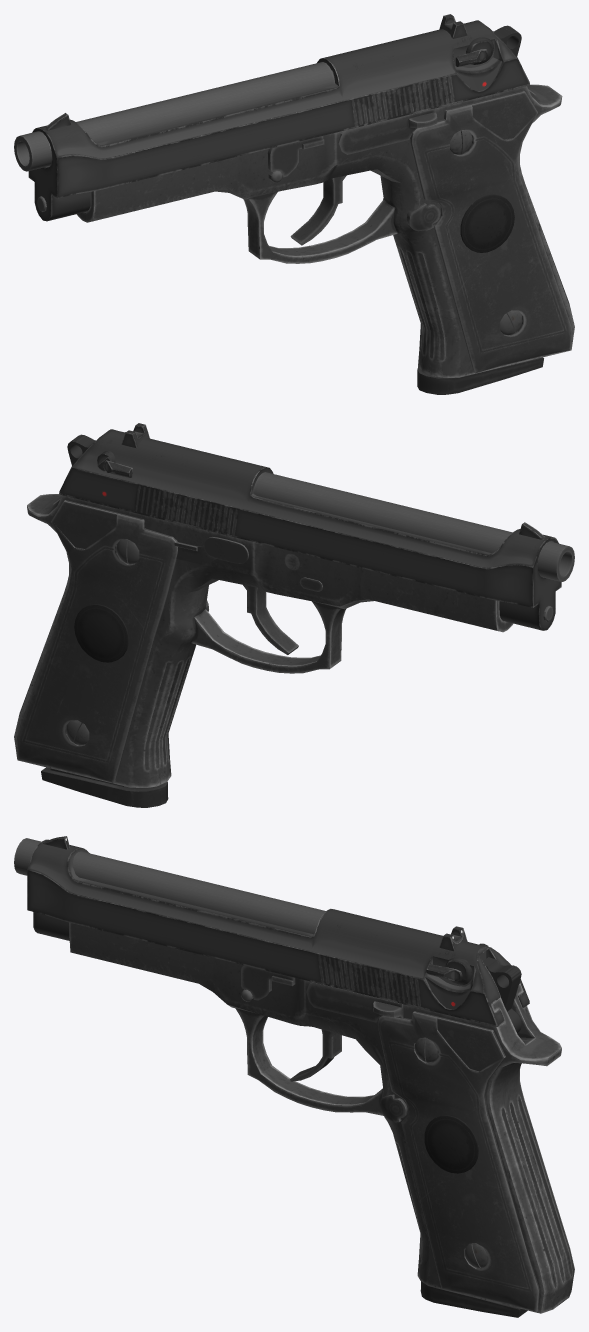
The model's file is beretta_pistol.glb.
3 views of the same model, one above another, from view 1: azimuth 30°, elevation 25°; view 2: azimuth 150°, elevation 25°; view 3: azimuth 330°, elevation 25° (orthographic).
Parts seen in each view (by area): view 1: Plane.013; view 2: Plane.013; view 3: Plane.013.
Part boxes in pixels (x1,y1,x2,y2): Plane.013: (14,14,574,394); Plane.013: (14,423,574,807); Plane.013: (14,836,574,1317).
Bounding box in the file's own units: 461 × 297 × 62.55.
2 materials, 2 textured.
